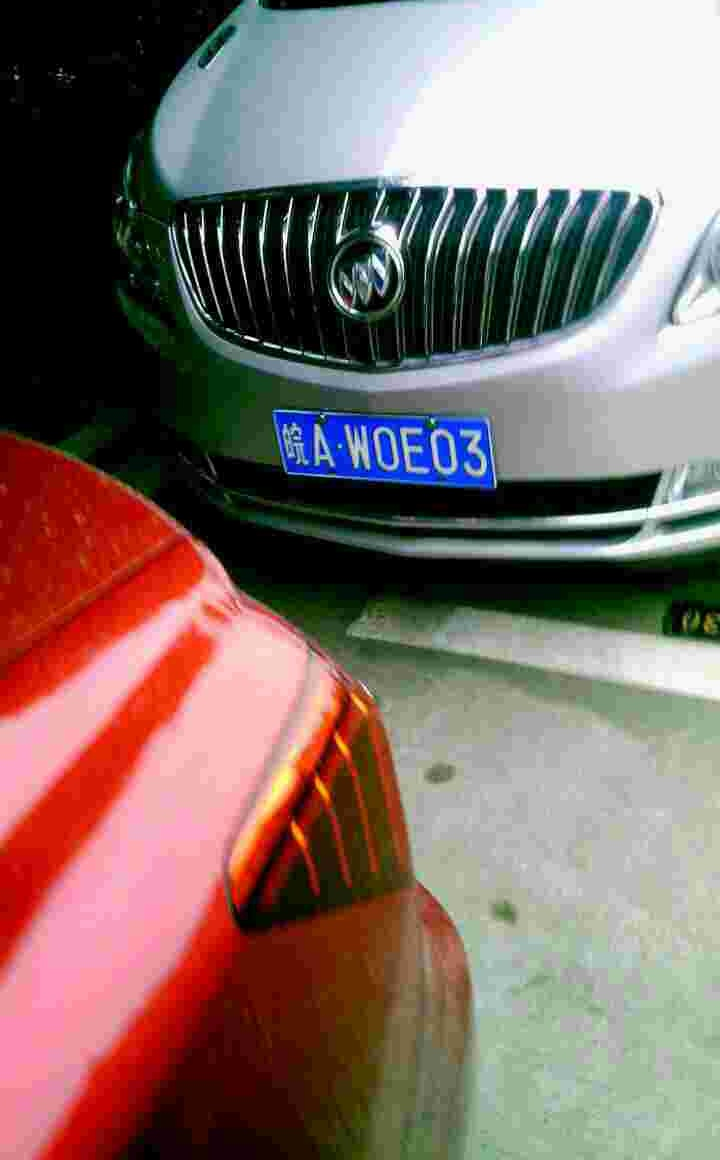license_plate: (274, 406, 498, 496)
